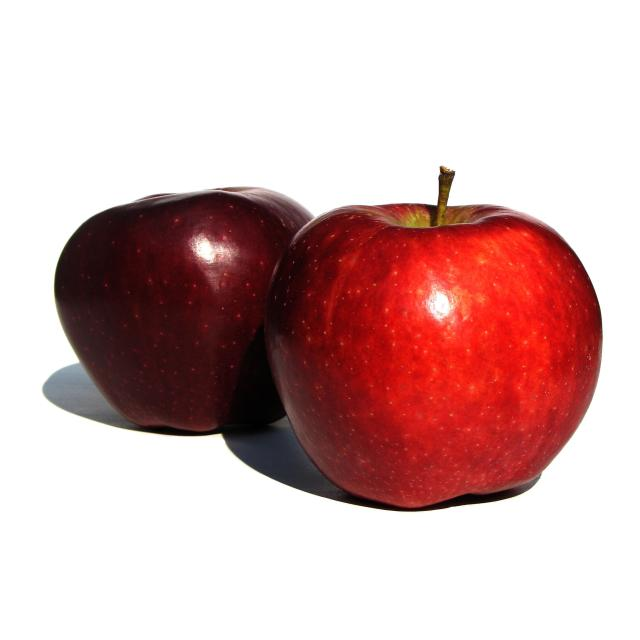apple: (271, 186, 601, 521), (46, 186, 339, 453)
